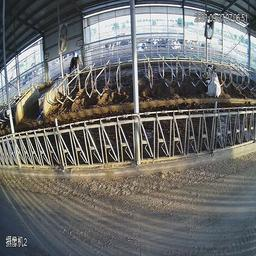cow: (201, 58, 223, 102), (66, 57, 83, 82)
